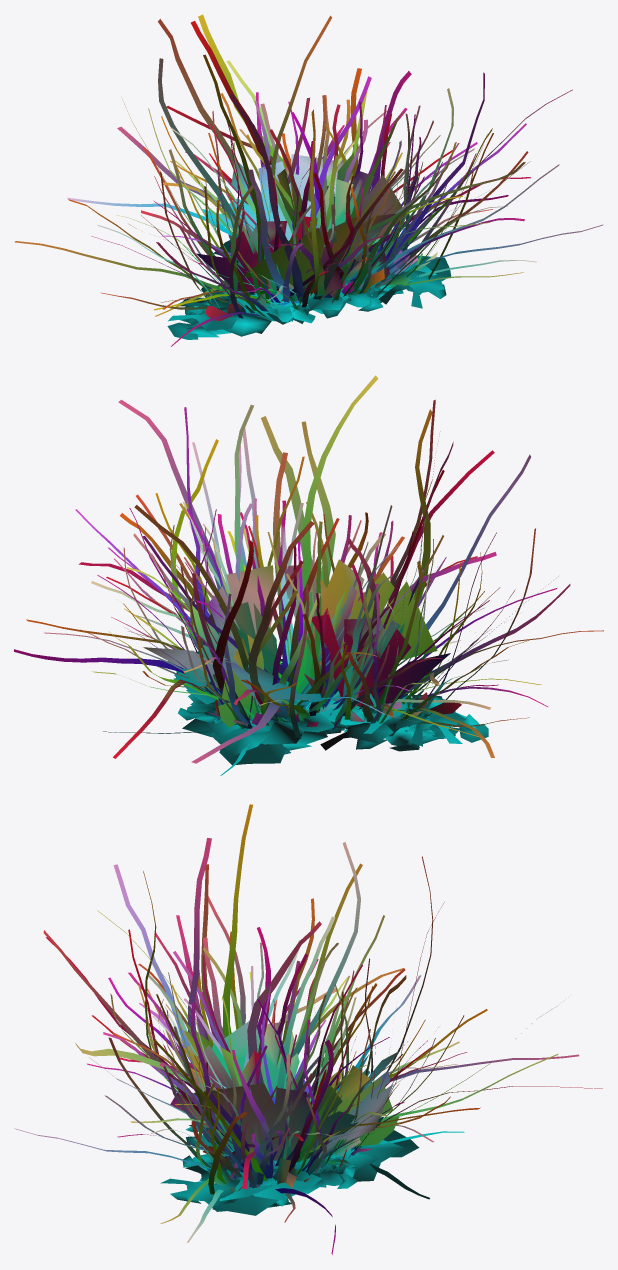
Rendered from Wild_Grass_vczndjqja_Low_vczndjqja_VarD_LOD0.fbx.
3 views of the same model, one above another, from view 1: azimuth 30°, elevation 25°; view 2: azimuth 150°, elevation 25°; view 3: azimuth 270°, elevation 25° (orthographic). The views are drawn at different scales.
Visible parts, largest first — view 1: _0i7a_VarD_LOD2; view 2: _0i7a_VarD_LOD2; view 3: _0i7a_VarD_LOD2.
Boxes of the visible parts, left/top/right/bottom form: _0i7a_VarD_LOD2: left=14, top=14, right=603, bottom=346; _0i7a_VarD_LOD2: left=14, top=375, right=603, bottom=775; _0i7a_VarD_LOD2: left=14, top=804, right=602, bottom=1254.
Bounding box in the file's own units: 139 × 77.56 × 143.
